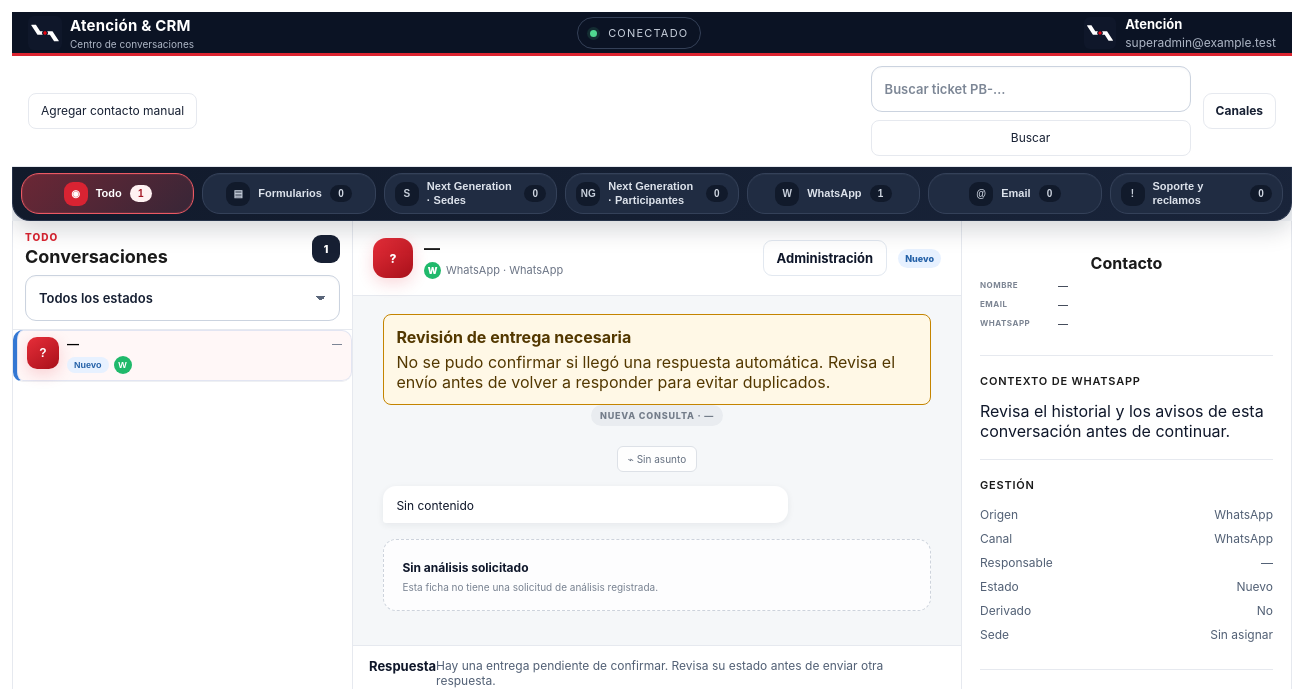
Test: CRM histórico unificado › bloquea reanudación con entrega incierta
Click the heading "Administración".
click(825, 258)  # box [763,240,887,276]
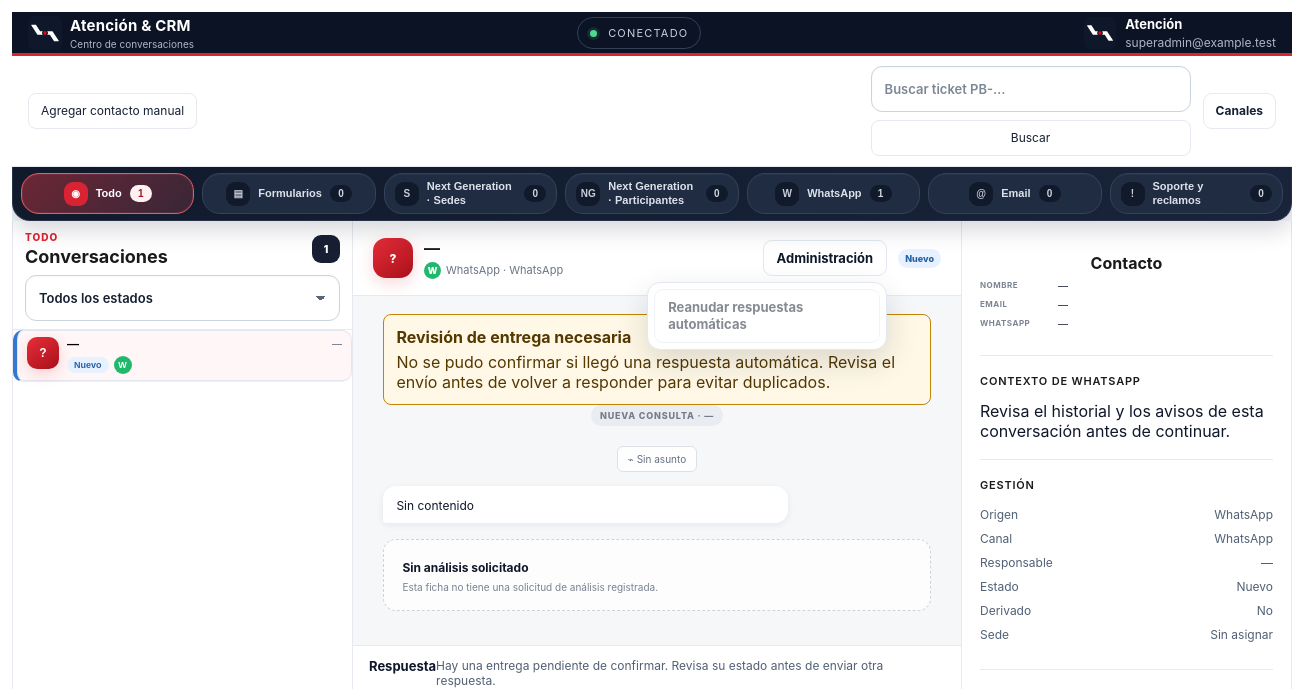
Now the button "Reanudar respuestas automáticas" is disabled, box [654,289,880,343]
